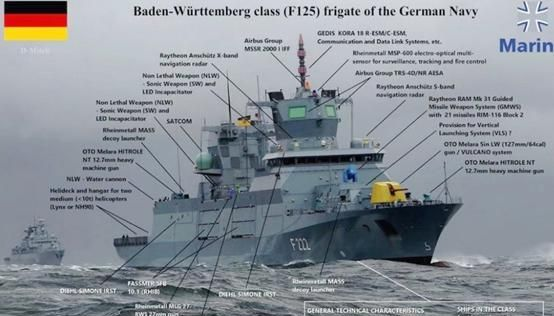warship: (112, 58, 475, 272), (9, 213, 72, 270)
